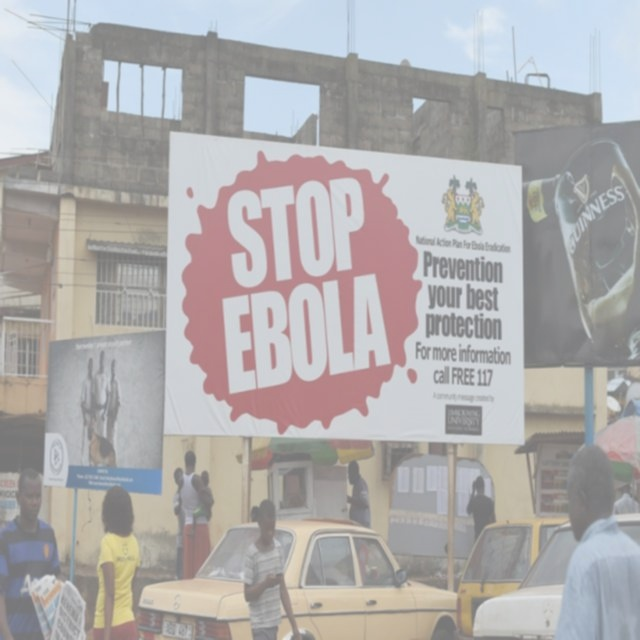pessoa: (551, 440, 640, 640), (0, 464, 69, 639), (242, 496, 304, 640), (88, 482, 142, 640), (78, 348, 124, 469), (178, 449, 213, 579), (346, 459, 373, 567), (184, 468, 217, 540), (466, 474, 496, 544), (172, 466, 185, 581), (612, 483, 640, 516), (364, 563, 380, 584), (248, 501, 260, 527)
